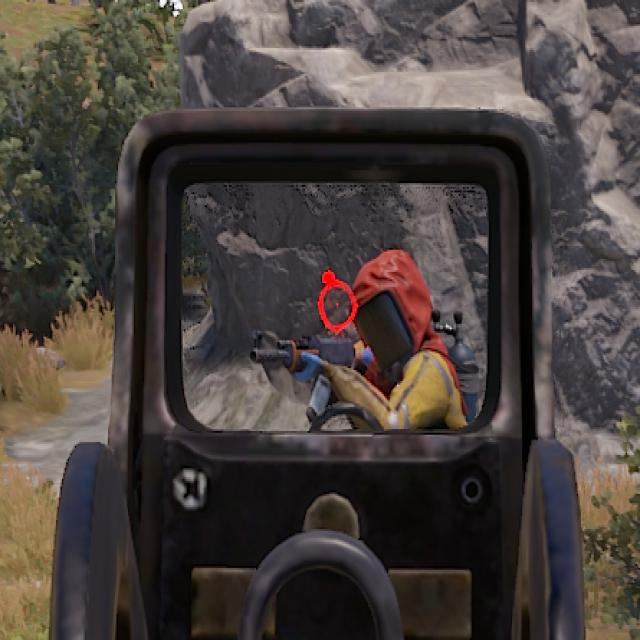Player: (357, 248, 459, 426)
